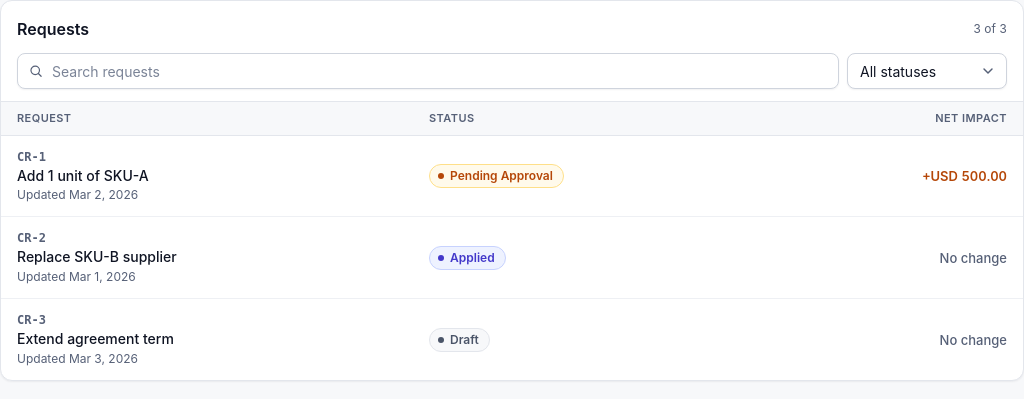
CrListComponent › filters rendered rows by the selected status
This screenshot has width=1024, height=399.
Select "Draft" in the dropdown with class "cr-list__filter": (927, 71) [847,53,1007,89]
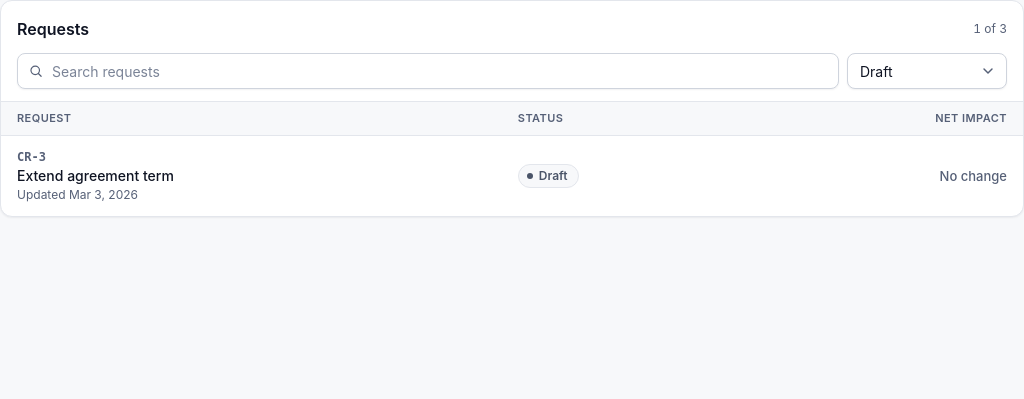
Expected: the row with class "cr-list__row" shows "CR-3", [17,150,46,164]
Now the number of rows with class "cr-list__row" is 1, box [1,135,1023,216]
